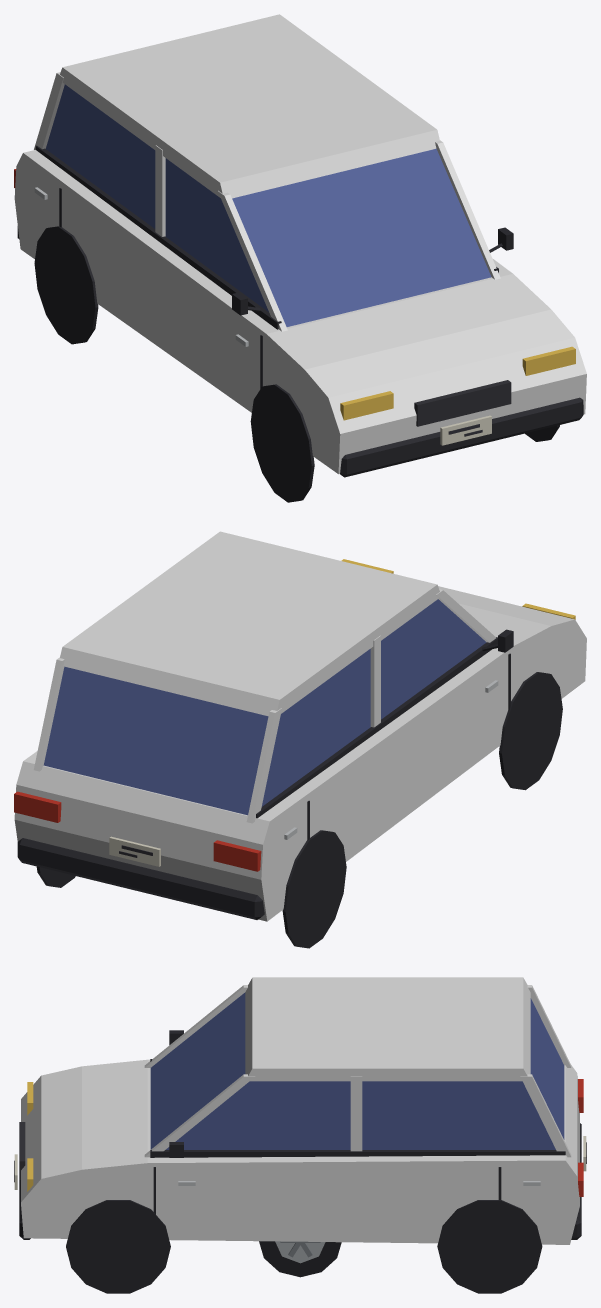
The model's file is hatchback.glb.
3 renders of one model, top to bottom at view 1: azimuth 30°, elevation 25°; view 2: azimuth 150°, elevation 25°; view 3: azimuth 270°, elevation 25°, orthographic. The views are drawn at different scales.
Parts seen in each view (by area): view 1: paint, body, lights; view 2: paint, body, lights; view 3: paint, body, wheel0, lights.
Part boxes in pixels (x1,y1,x2,y2): paint: (14,14,586,474); body: (17,84,583,502); lights: (14,169,575,420); paint: (14,531,586,921); body: (17,599,562,948); lights: (14,559,575,871); paint: (21,977,579,1244); body: (14,992,586,1293); wheel0: (259,1241,341,1277); lights: (27,1079,583,1196).
Bounding box in the file's own units: 1.86 × 1.88 × 3.93.
